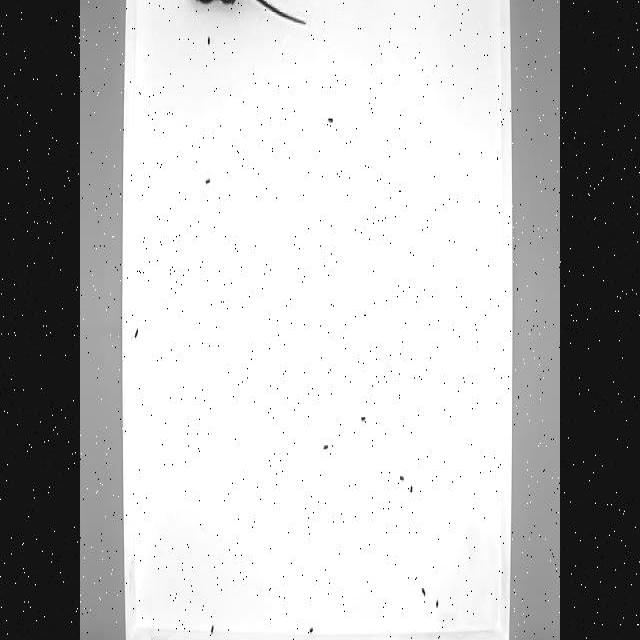rat: (180, 0, 308, 27)
